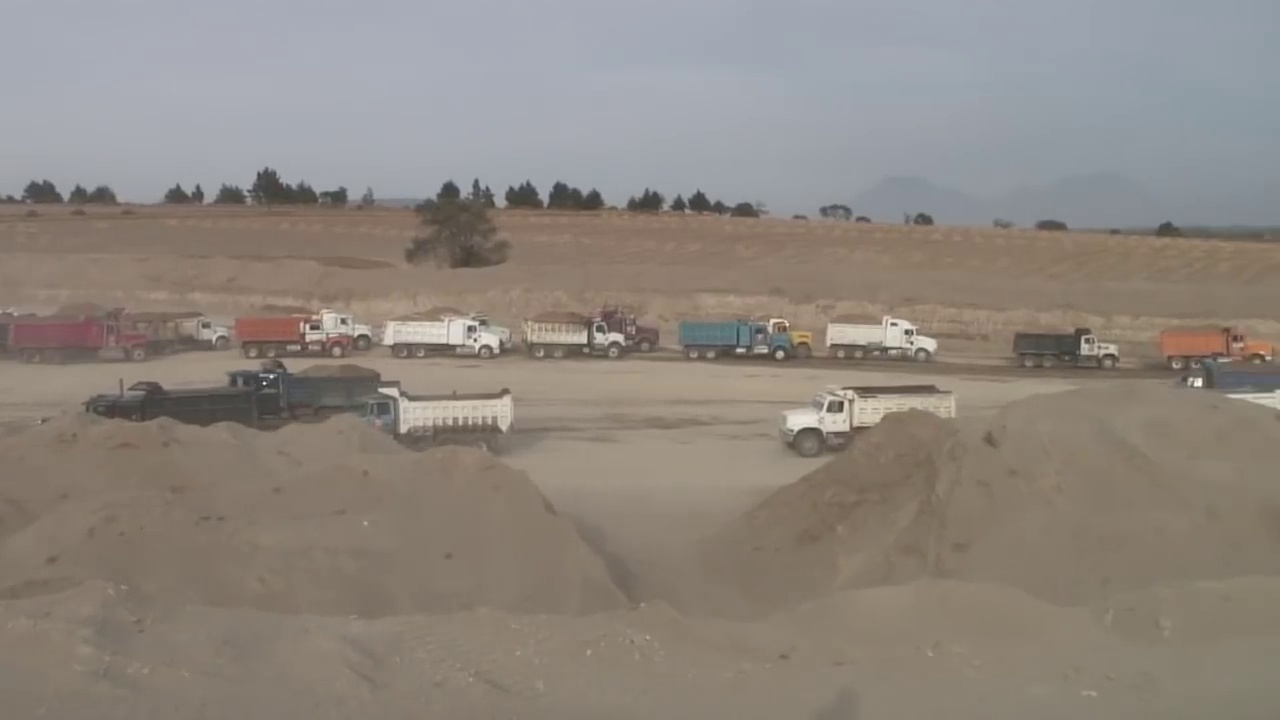truck: (782, 385, 960, 455), (362, 386, 516, 452), (92, 384, 260, 444), (228, 359, 386, 421), (7, 310, 154, 365), (677, 312, 789, 359), (382, 317, 500, 360), (519, 315, 628, 360), (236, 316, 354, 356), (825, 319, 936, 361), (1158, 328, 1273, 367), (136, 310, 230, 350), (1013, 330, 1118, 365), (305, 311, 372, 344)
